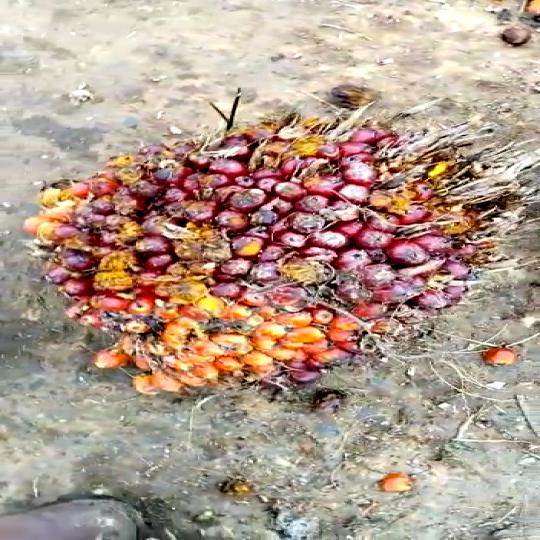masak: (35, 100, 540, 444)
